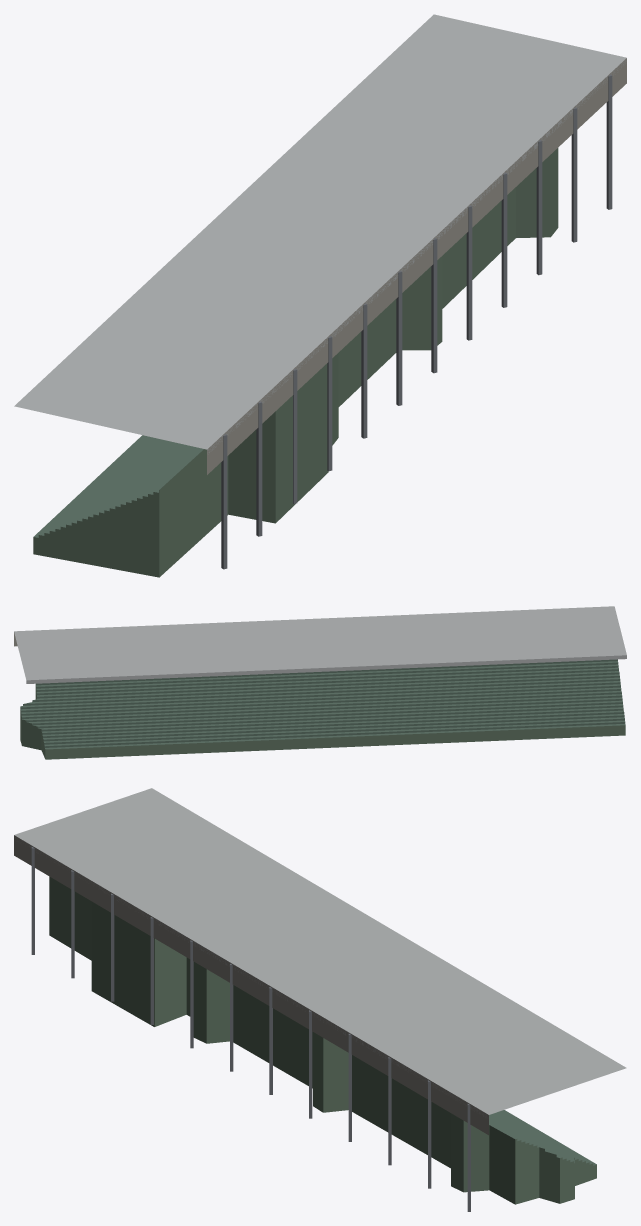
File: horquilla_stand.glb
3 views of the same model, one above another, from view 1: azimuth 30°, elevation 25°; view 2: azimuth 150°, elevation 25°; view 3: azimuth 270°, elevation 25° (orthographic). The views are drawn at different scales.
Visible parts, largest first — view 1: chunk_0_0; view 2: chunk_0_0; view 3: chunk_0_0.
Part boxes in pixels (x1,y1,x2,y2): chunk_0_0: (14, 14, 626, 577); chunk_0_0: (14, 606, 626, 759); chunk_0_0: (14, 788, 626, 1211).
Size of the model in its own units: 134 by 22.5 by 108.
